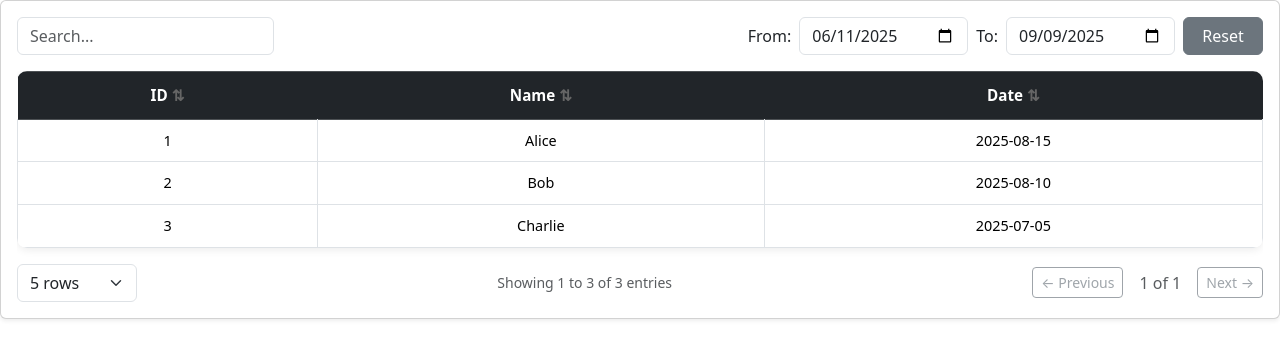
Test: DataTable › reset button restores default date range and applies filter
Note: Change the dates first
Type "2023-02-01" into the date field labelled "From:" at (884, 36), box [799, 17, 968, 55]
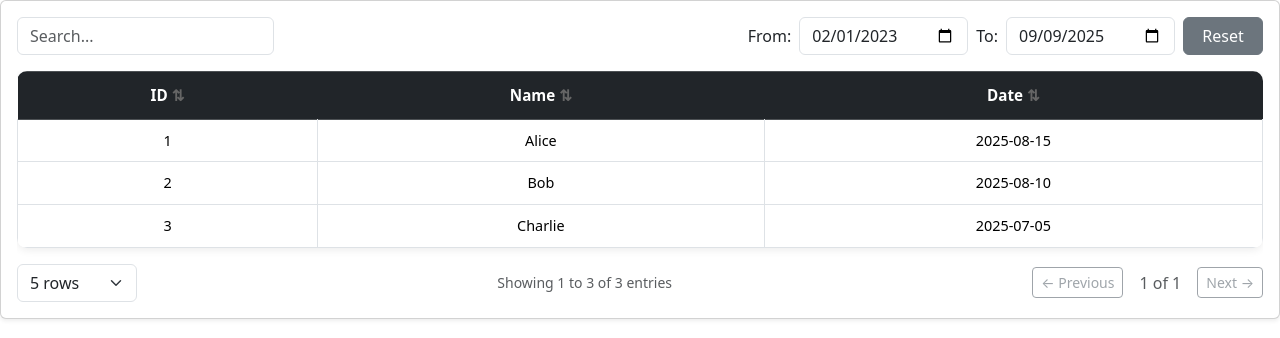
Type "2023-02-28" into the date field labelled "To:" at (1090, 36), box [1006, 17, 1175, 55]
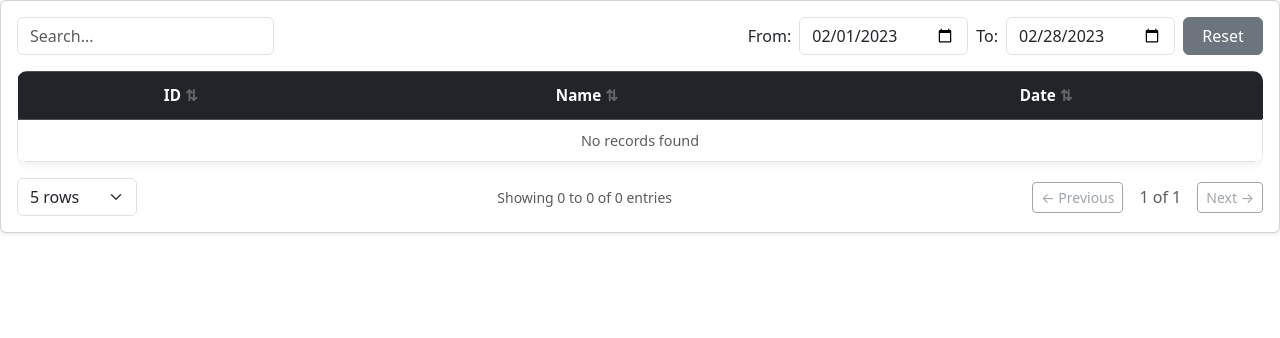
Note: Click reset
Click the button "Reset" at (1223, 36), box [1183, 17, 1263, 55]
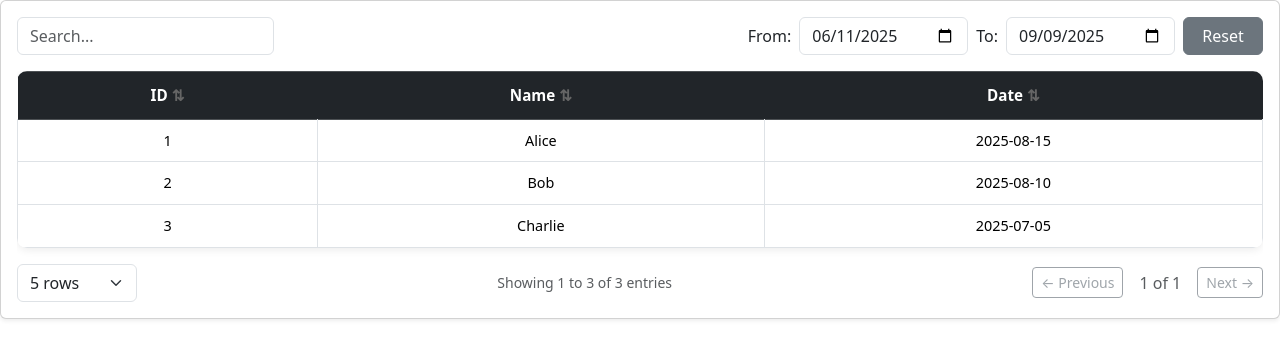
Now the date field labelled "From:" does not hold "2023-02-01", box [799, 17, 968, 55]
Now the date field labelled "To:" does not hold "2023-02-28", box [1006, 17, 1175, 55]
